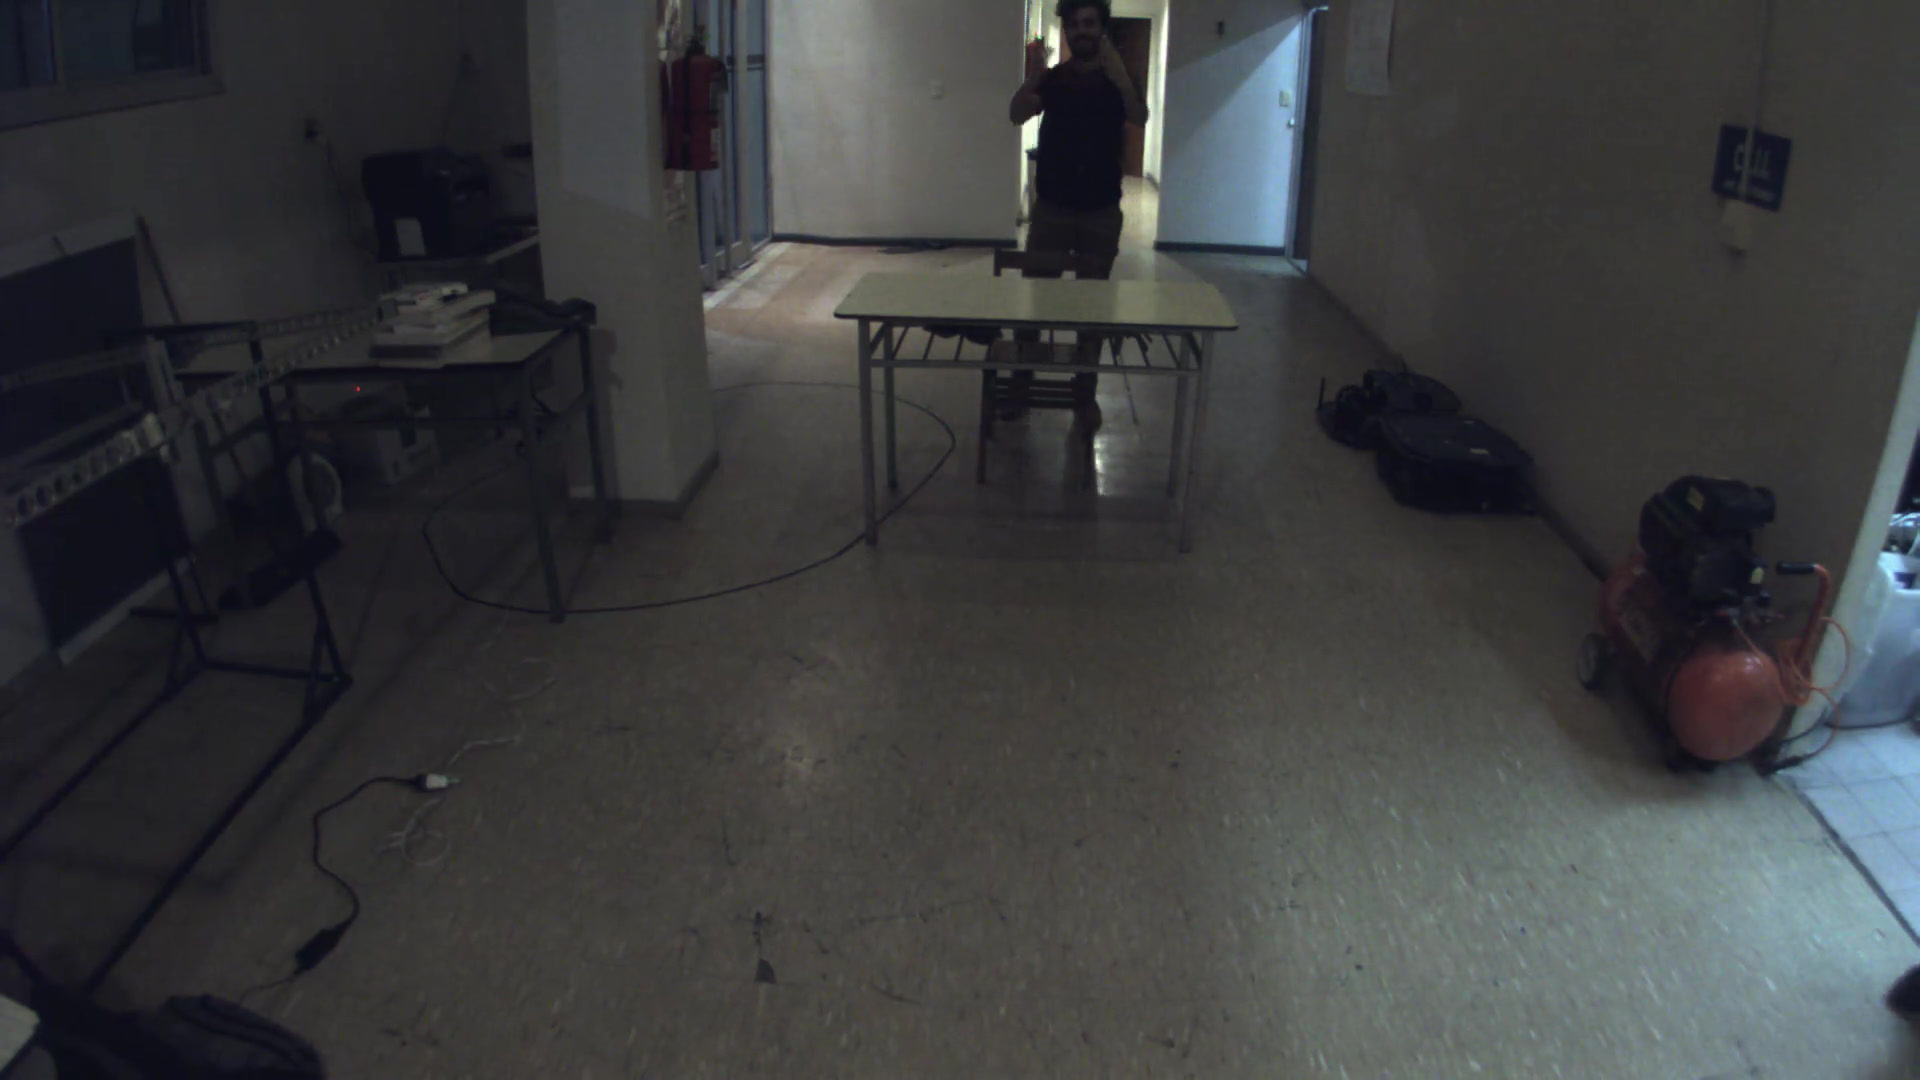hand: (1013, 28, 1072, 98), (1093, 30, 1146, 90)
